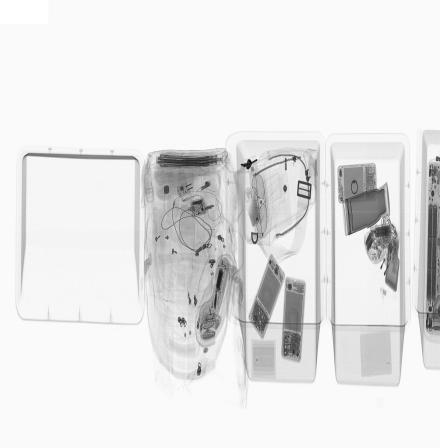Powerbank: (363, 224, 392, 253)
